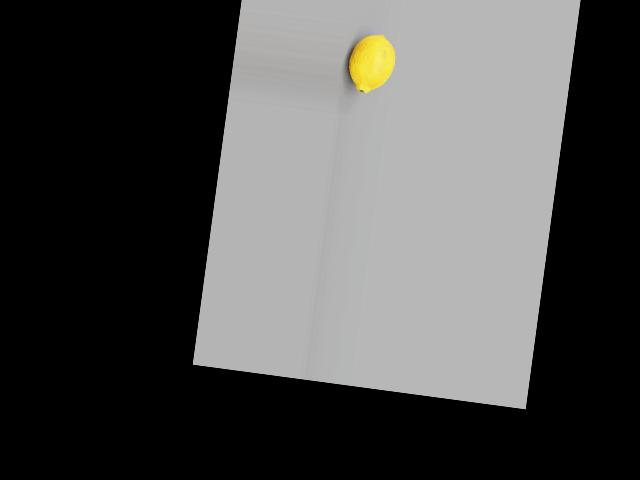lemon: (343, 25, 402, 111)
